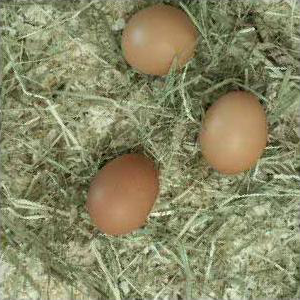egg: (86, 153, 159, 235), (199, 91, 268, 174), (121, 5, 196, 76)
